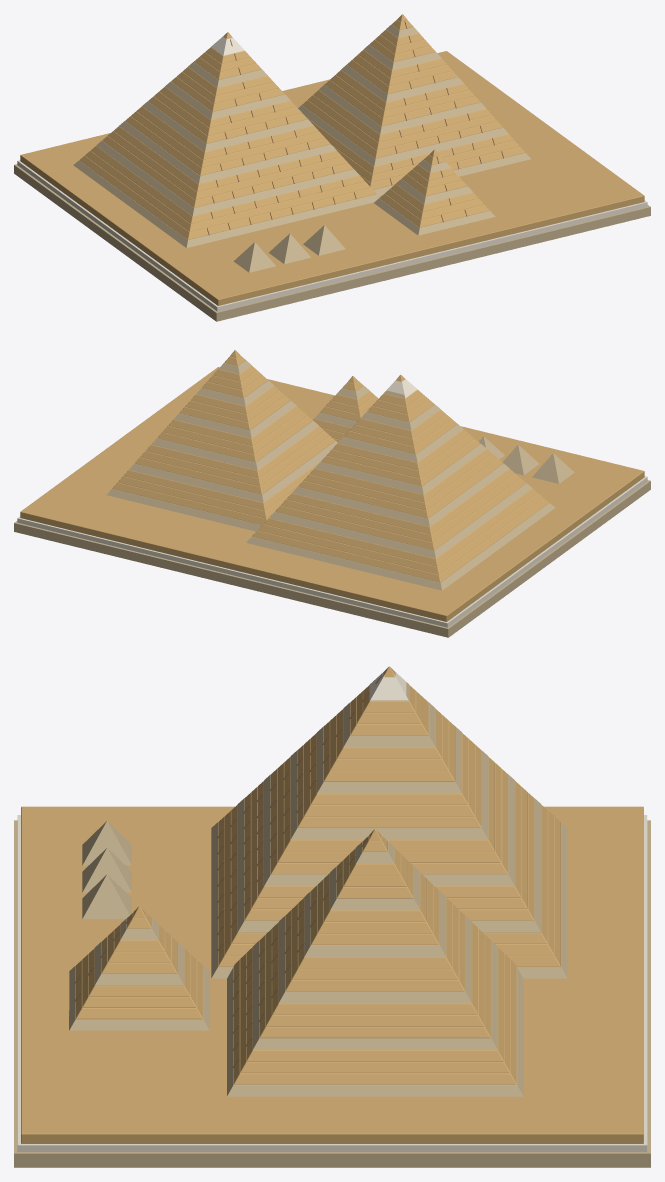
Rendered from pyramids.glb.
3 views of the same model, one above another, from view 1: azimuth 30°, elevation 25°; view 2: azimuth 150°, elevation 25°; view 3: azimuth 270°, elevation 25° (orthographic). The views are drawn at different scales.
Visible parts, largest first — view 1: pyramids_sand, pyramids_stone, pyramids_ivory, pyramids_bronze; view 2: pyramids_sand, pyramids_stone, pyramids_ivory; view 3: pyramids_sand, pyramids_stone, pyramids_ivory, pyramids_bronze.
Part boxes in pixels (x1,y1,x2,y2): pyramids_sand: (20, 14, 644, 305); pyramids_stone: (14, 24, 650, 321); pyramids_ivory: (17, 36, 647, 311); pyramids_bronze: (207, 21, 503, 235); pyramids_sand: (20, 350, 644, 621); pyramids_stone: (14, 360, 650, 637); pyramids_ivory: (17, 378, 647, 627); pyramids_sand: (21, 666, 643, 1143); pyramids_stone: (14, 682, 650, 1167); pyramids_ivory: (17, 671, 647, 1151); pyramids_bronze: (74, 675, 382, 1067).
Size of the model in its own units: 8.3 by 3.11 by 6.7.
